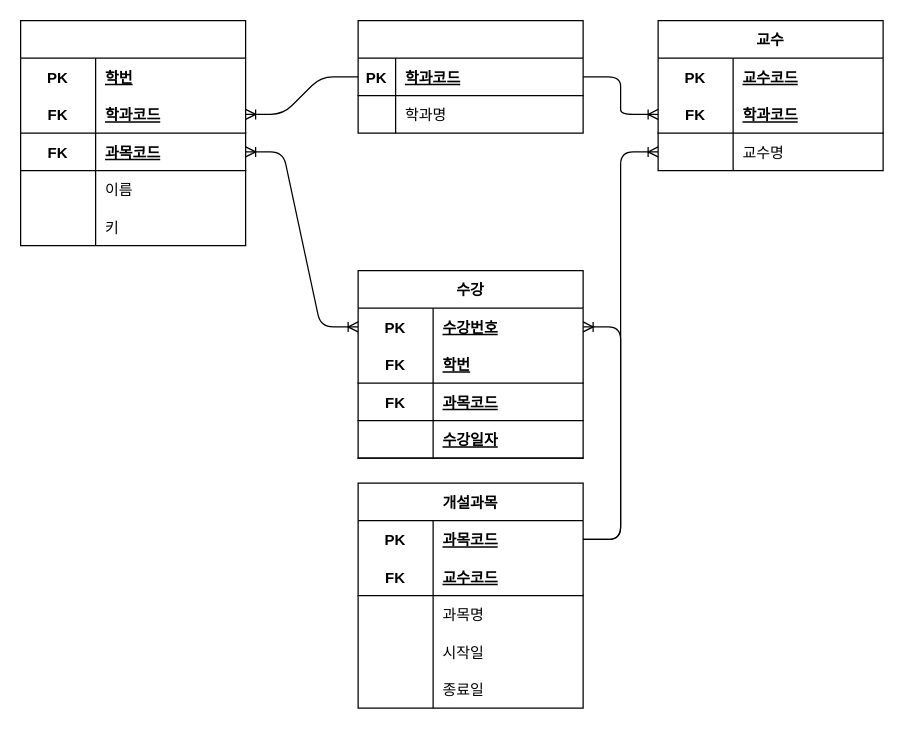
This 904x729 diagram has some shape labels left out. The box of each missing label's shape, as (x1, y1, x2, y2) in pixels:
학과: (357, 19, 583, 133)
학생: (19, 19, 246, 246)
